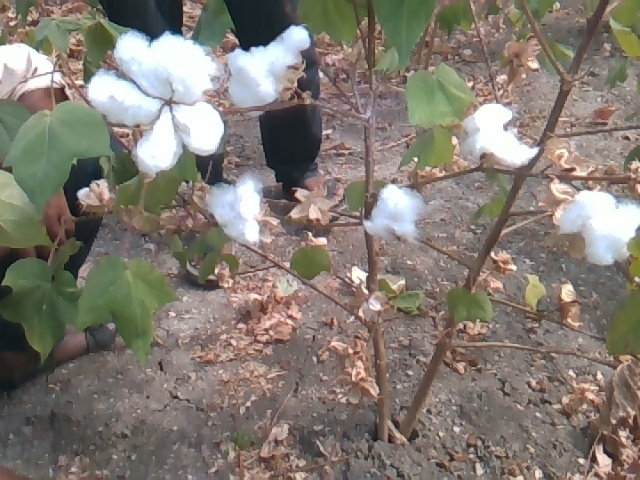cotton: (86, 25, 231, 173), (217, 23, 320, 109), (560, 187, 638, 272), (452, 99, 539, 172), (195, 171, 271, 246), (362, 185, 432, 246), (76, 180, 115, 212)
